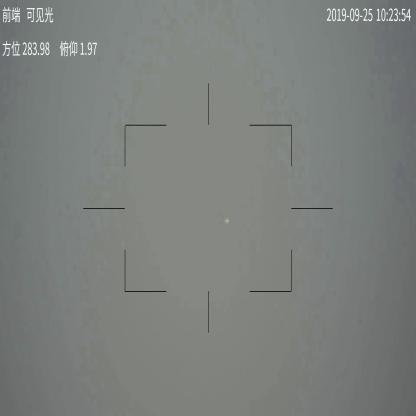uav: (224, 217, 231, 226)
